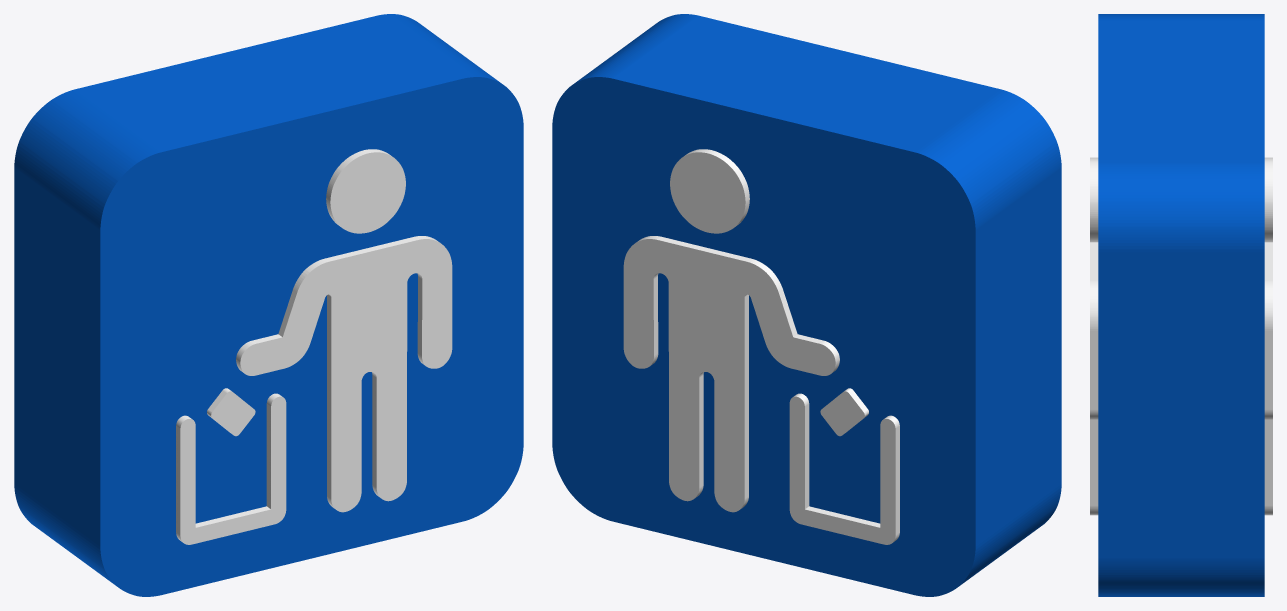
3 renders of one model, left to right at view 1: azimuth 30°, elevation 25°; view 2: azimuth 150°, elevation 25°; view 3: azimuth 270°, elevation 25°, orthographic. The views are drawn at different scales.
Parts seen in each view (by area): view 1: U+1F6AE_layer00_obj00, U+1F6AE_layer01_obj00; view 2: U+1F6AE_layer00_obj00, U+1F6AE_layer01_obj00; view 3: U+1F6AE_layer00_obj00, U+1F6AE_layer01_obj00.
Boxes of the visible parts, <box> form: U+1F6AE_layer00_obj00: <box>14,14,523,596</box>; U+1F6AE_layer01_obj00: <box>176,149,452,544</box>; U+1F6AE_layer00_obj00: <box>552,14,1061,596</box>; U+1F6AE_layer01_obj00: <box>623,149,899,544</box>; U+1F6AE_layer00_obj00: <box>1098,14,1264,596</box>; U+1F6AE_layer01_obj00: <box>1090,157,1272,515</box>.
Size of the model in its own units: 0.5678 by 0.5677 by 0.22.
